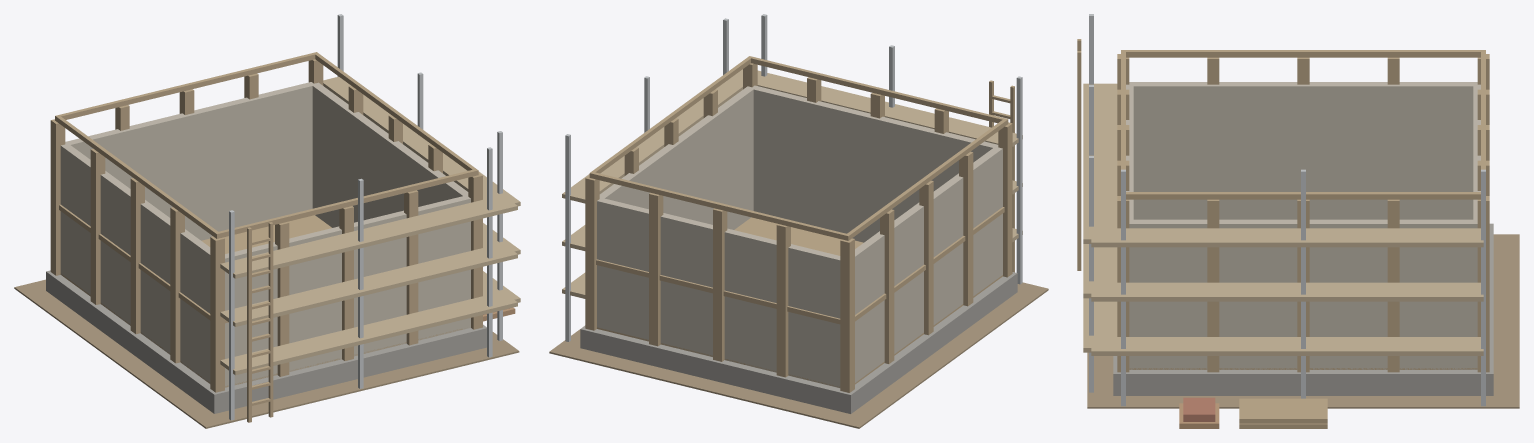
File: winery_site_7.glb
3 renders of one model, left to right at view 1: azimuth 30°, elevation 25°; view 2: azimuth 150°, elevation 25°; view 3: azimuth 270°, elevation 25°, orthographic. The views are drawn at different scales.
Parts seen in each view (by area): view 1: body; view 2: body; view 3: body.
Part boxes in pixels (x1,y1,x2,y2): body: (14, 14, 520, 428); body: (549, 14, 1048, 428); body: (1077, 14, 1519, 428).
Size of the model in its own units: 2.28 by 1.3 by 2.21.
